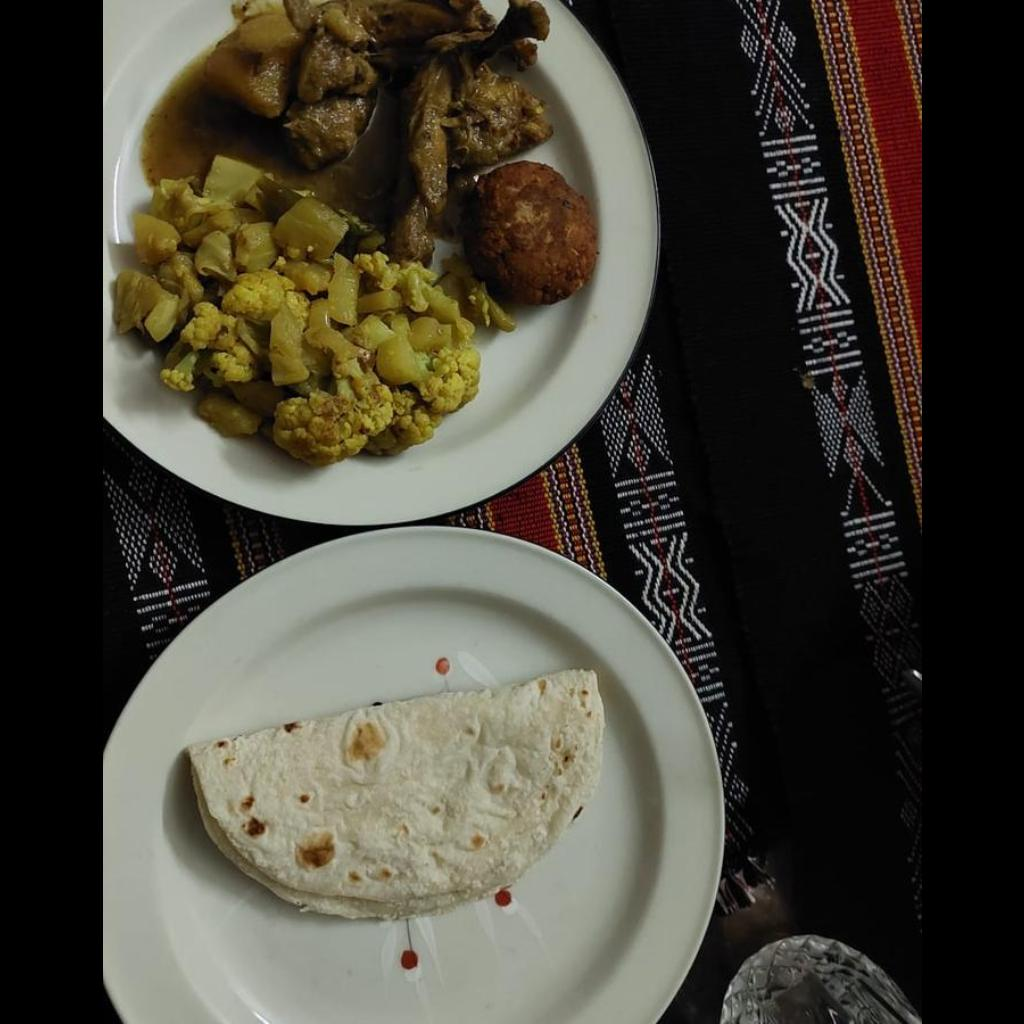chicken: (218, 2, 554, 251)
kabab: (468, 161, 592, 300)
ruti: (187, 671, 603, 923)
vaji: (116, 155, 485, 463)
